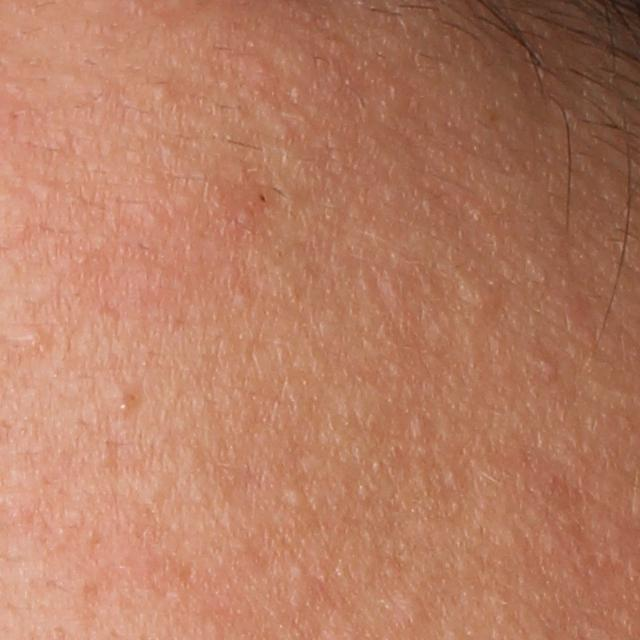comedo: (458, 272, 500, 316), (392, 596, 427, 632), (406, 415, 434, 446), (149, 81, 175, 109), (539, 353, 563, 380), (283, 488, 309, 510), (285, 561, 307, 582), (35, 179, 56, 201)
